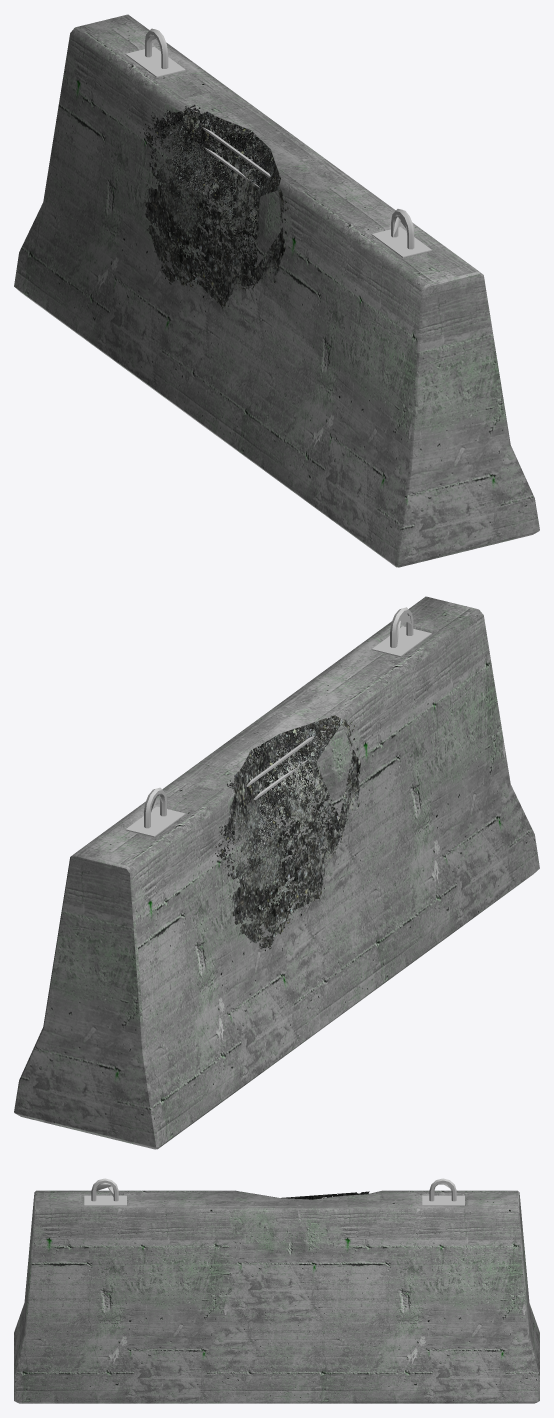
The model's file is RoadBlock_1.fbx.
The picture shows the model from 3 angles, top to bottom: view 1: azimuth 30°, elevation 25°; view 2: azimuth 150°, elevation 25°; view 3: azimuth 270°, elevation 25°; orthographic projection. The views are drawn at different scales.
Visible parts, largest first — view 1: RoadBlock_1__Lod:0, RoadBlock_1__Lod:1, RoadBlock_1__Lod:3; view 2: RoadBlock_1__Lod:0, RoadBlock_1__Lod:3, RoadBlock_1__Lod:1; view 3: RoadBlock_1__Lod:1, RoadBlock_1__Lod:3, RoadBlock_1__Lod:0.
Part boxes in pixels (x1,y1,x2,y2): RoadBlock_1__Lod:0: (14,14,539,567); RoadBlock_1__Lod:1: (23,28,539,565); RoadBlock_1__Lod:3: (17,35,507,567); RoadBlock_1__Lod:0: (14,596,539,1149); RoadBlock_1__Lod:3: (118,613,536,1149); RoadBlock_1__Lod:1: (14,607,529,1147); RoadBlock_1__Lod:1: (14,1184,539,1401); RoadBlock_1__Lod:3: (17,1183,536,1403); RoadBlock_1__Lod:0: (15,1178,538,1402).
Size of the model in its own units: 47.61 by 92.38 by 218.
